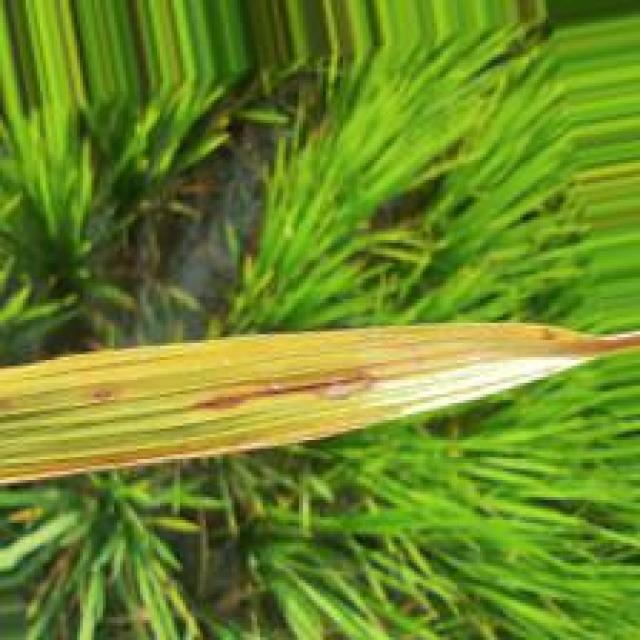Rice Tungro: (0, 427, 266, 485), (180, 366, 381, 416), (76, 385, 125, 410)
